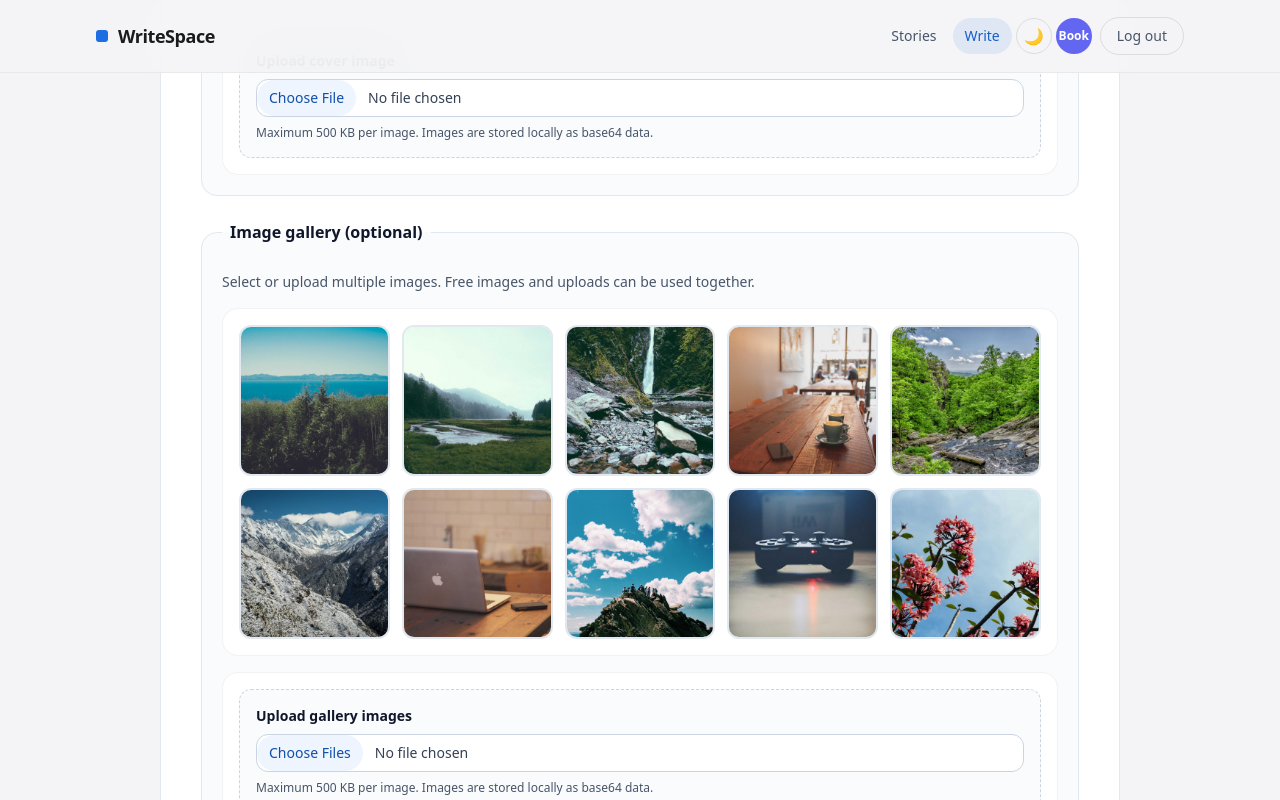
Scenario: blog pages › removes only the selected gallery preview before saving
(page scrolled)
Click the 1st button named "Snow-capped mountains rising above a quiet valley". click: coordinates (314, 401)
box: [239,325,390,476]
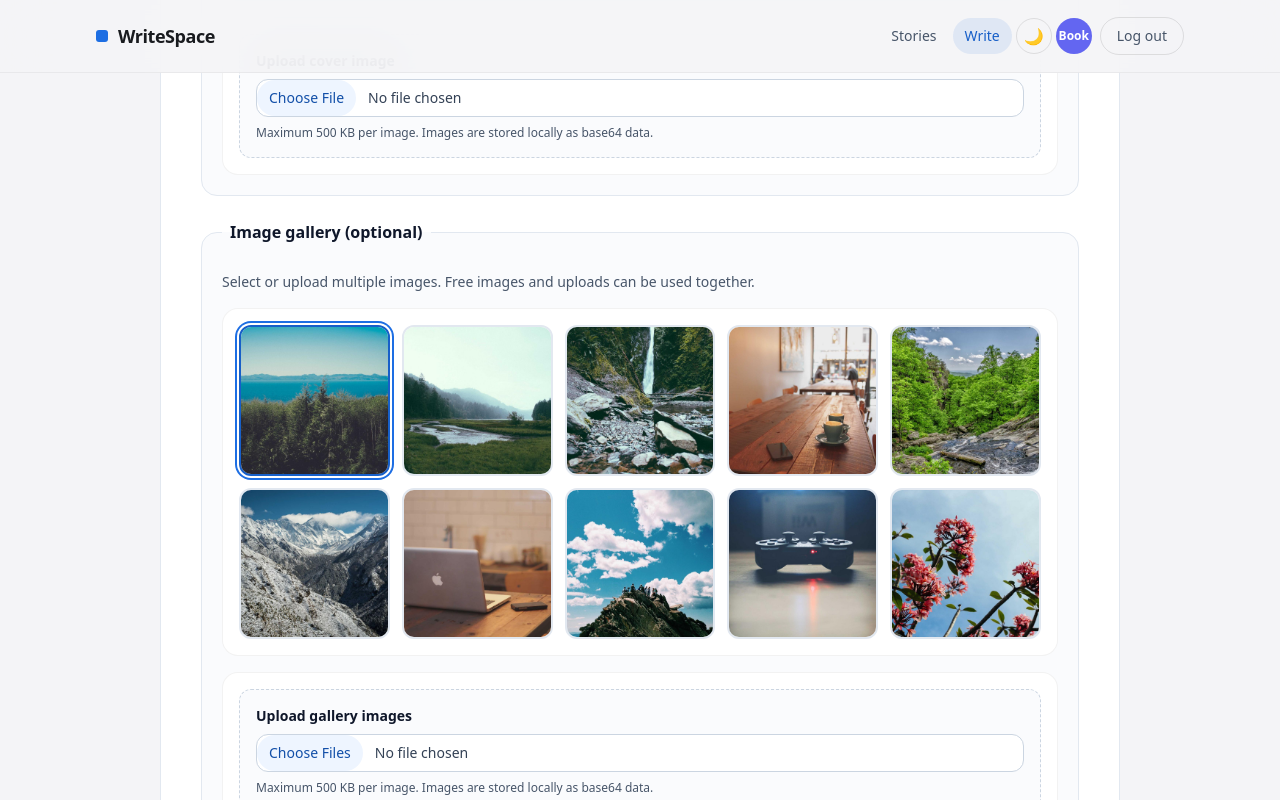
Click the 2nd button named "Ocean waves rolling toward a sunlit shore". click: coordinates (477, 401)
box: [402,325,553,476]
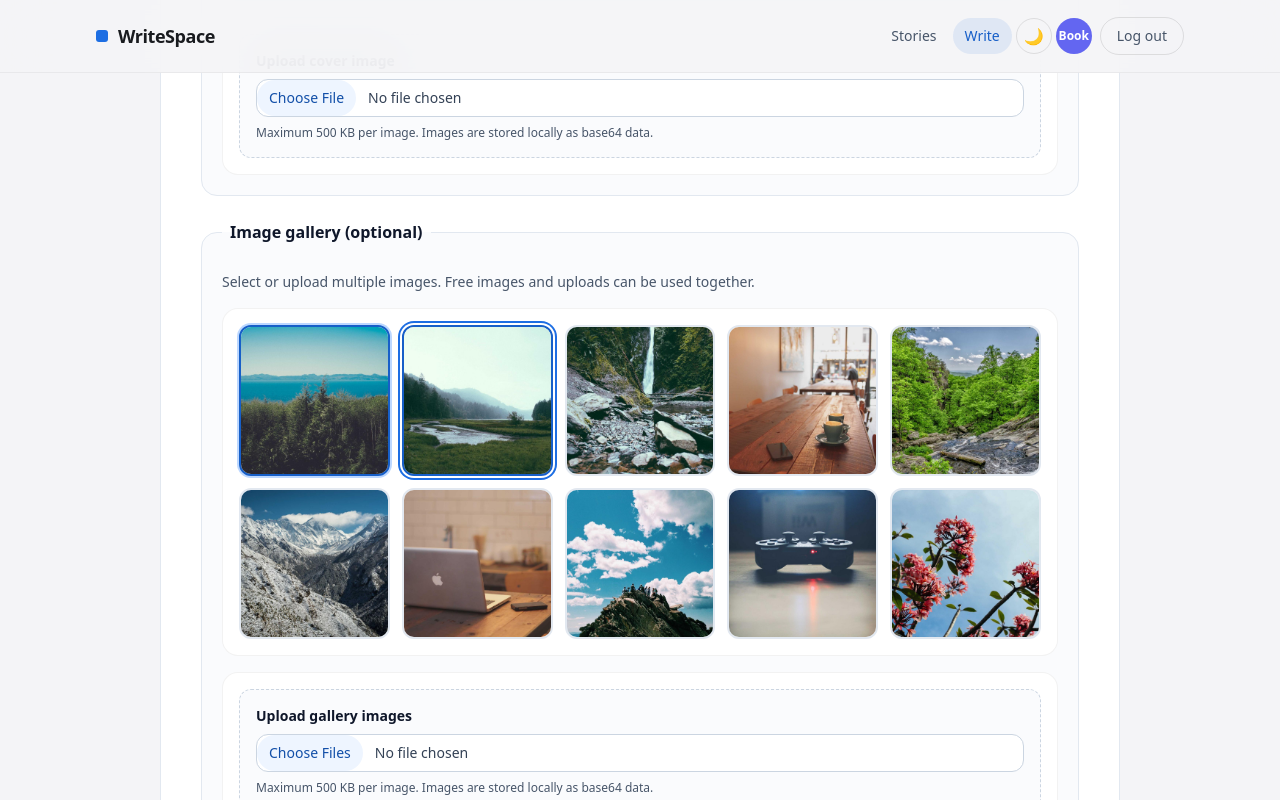
Click the 3rd button named "Tall forest trees surrounding a shaded woodland path". click: coordinates (640, 401)
box: [565,325,715,476]
(page scrolled)
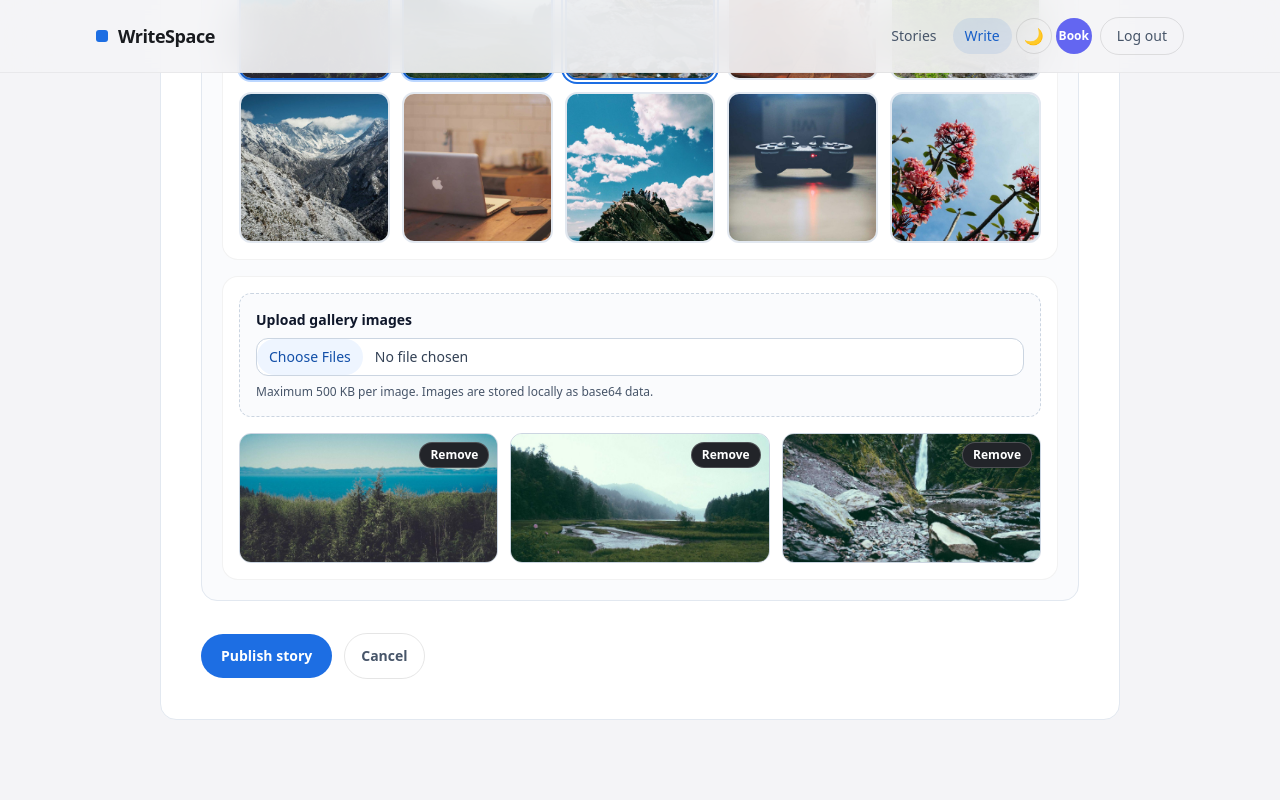
Click the button with aria-label "Remove gallery image 2". click: coordinates (726, 455)
box: [691,442,761,468]
(page scrolled)
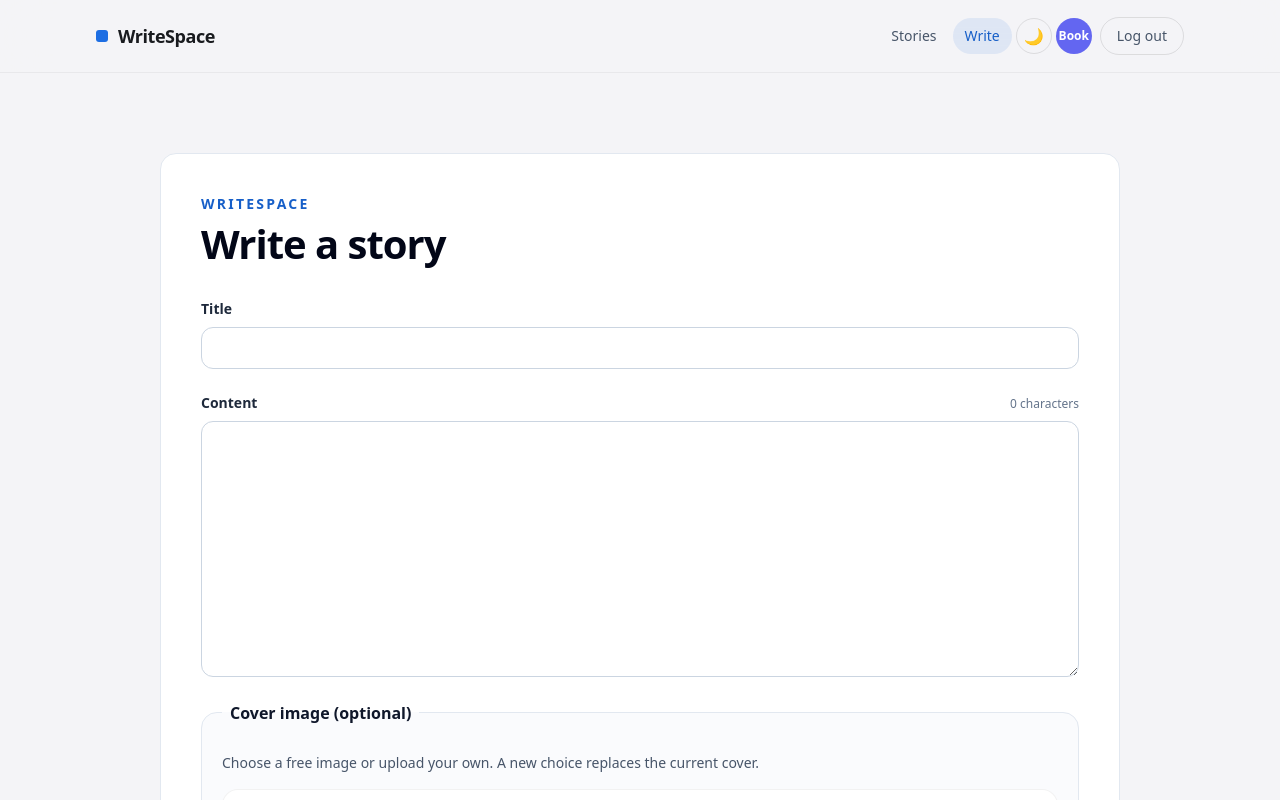
Type "Trimmed gallery" into the field labelled "Title". click: coordinates (640, 348)
box: [201,327,1079,369]
Type "Gallery removal body." into the text box labelled "Content". click: coordinates (640, 549)
box: [201,421,1079,677]
(page scrolled)
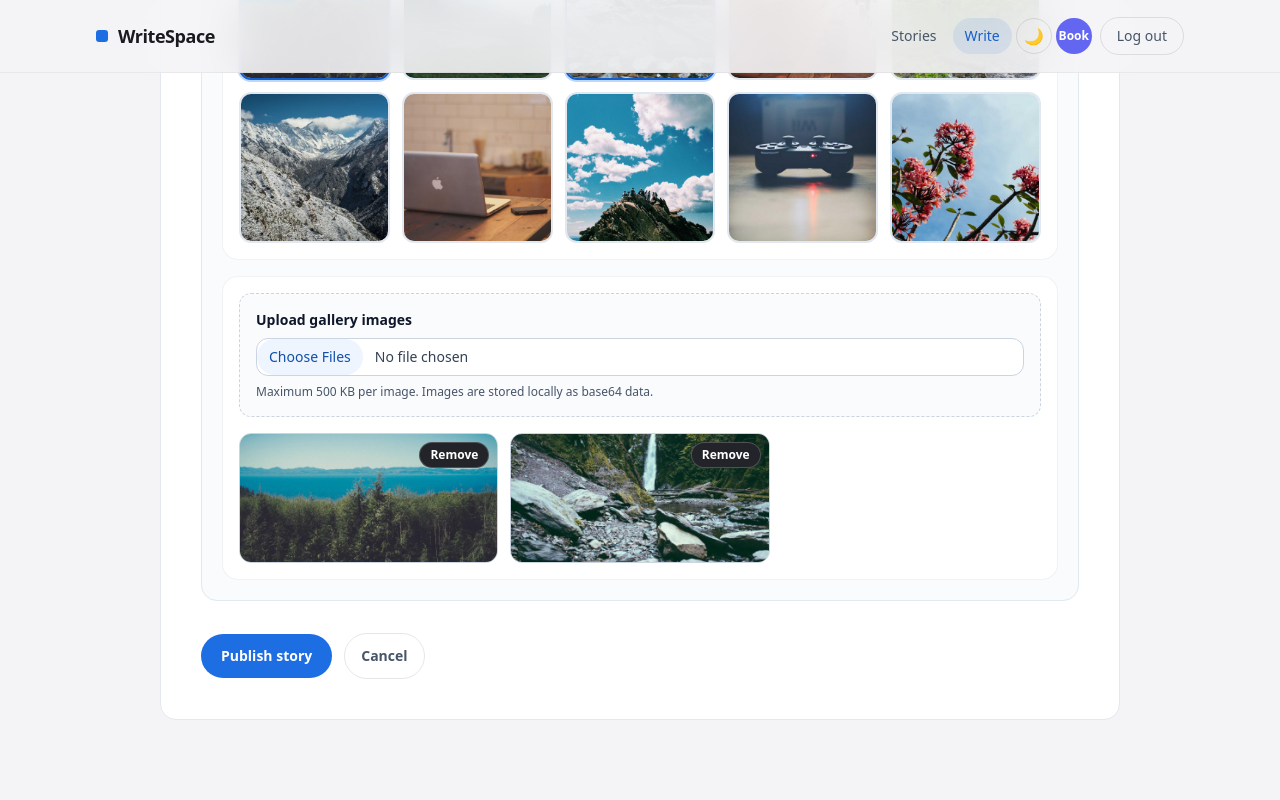
Click the button "Publish story". click: coordinates (267, 656)
box: [201,634,332,678]
(page scrolled)
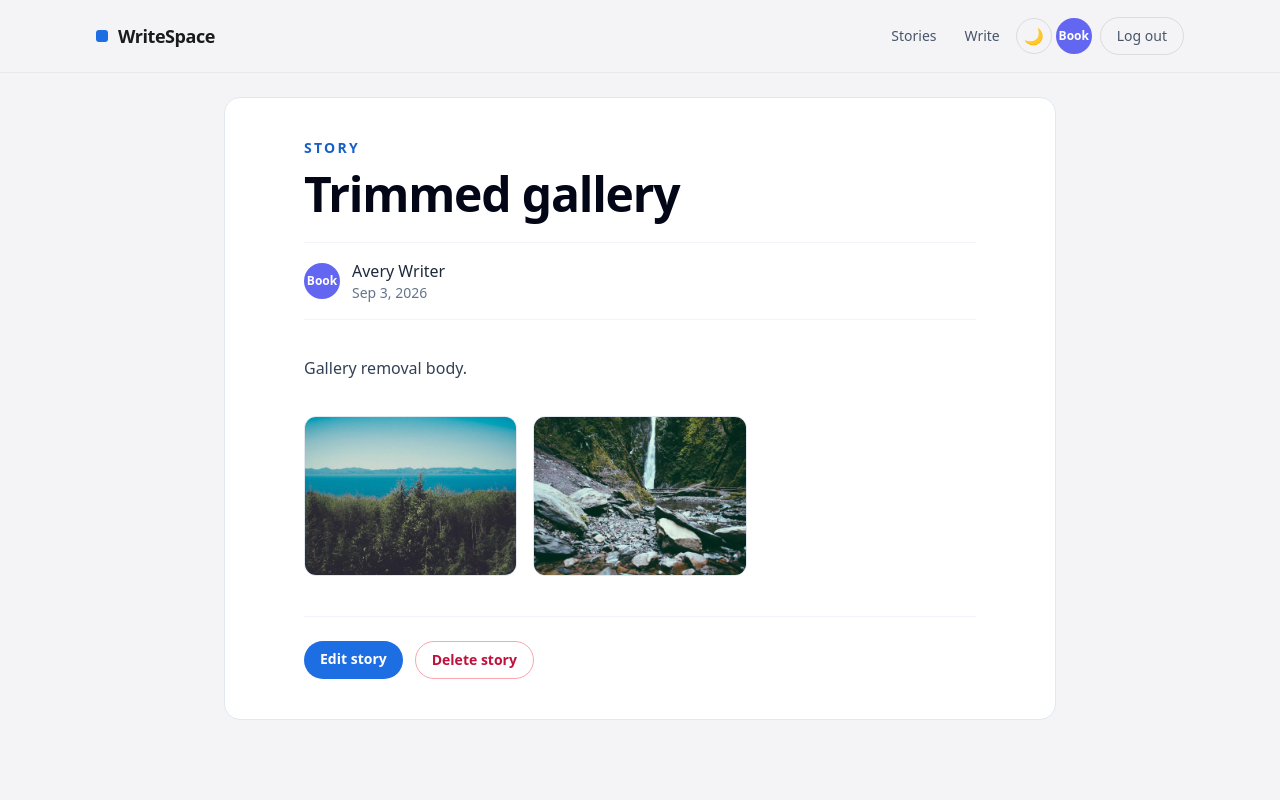
Check: the heading "Trimmed gallery" is shown, box [304,161,680,226]
